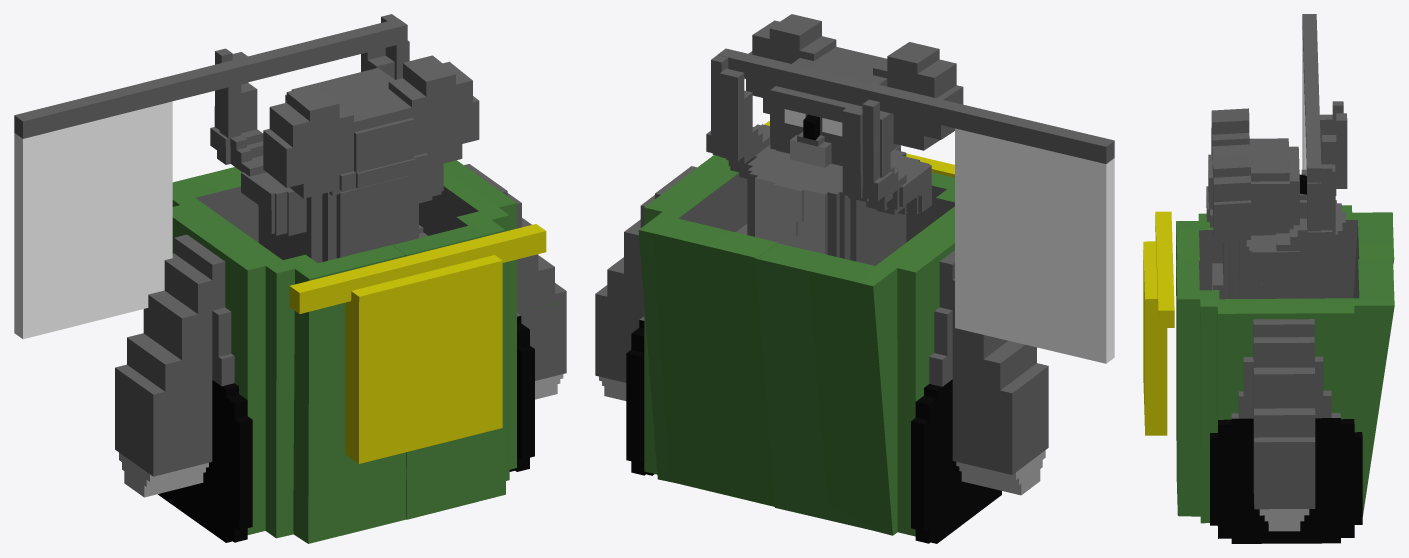
File: Koala.fbx
The picture shows the model from 3 angles, left to right: view 1: azimuth 30°, elevation 25°; view 2: azimuth 150°, elevation 25°; view 3: azimuth 270°, elevation 25°; orthographic projection. The views are drawn at different scales.
Visible parts, largest first — view 1: polySurface12, polySurface7, polySurface2, polySurface11, polySurface5, polySurface9, polySurface10; view 2: polySurface12, polySurface7, polySurface11, polySurface5, polySurface9, polySurface10; view 3: polySurface11, polySurface5, polySurface9, polySurface2, polySurface7, polySurface12, polySurface10.
Part boxes in pixels (x1,y1,x2,y2): polySurface12: [115, 167, 406, 543]; polySurface7: [14, 14, 409, 339]; polySurface2: [289, 224, 546, 463]; polySurface11: [392, 160, 566, 519]; polySurface5: [263, 55, 479, 198]; polySurface9: [241, 163, 443, 262]; polySurface10: [210, 48, 266, 176]; polySurface12: [755, 172, 1048, 543]; polySurface7: [706, 48, 1114, 363]; polySurface11: [595, 155, 777, 506]; polySurface5: [746, 14, 963, 167]; polySurface9: [728, 124, 931, 265]; polySurface10: [842, 99, 906, 204]; polySurface11: [1176, 258, 1394, 543]; polySurface5: [1206, 108, 1306, 241]; polySurface9: [1212, 200, 1345, 299]; polySurface2: [1143, 211, 1174, 435]; polySurface7: [1276, 14, 1335, 252]; polySurface12: [1176, 205, 1394, 440]; polySurface10: [1301, 101, 1347, 195].
Bounding box in the file's own units: 14.22 × 11.28 × 7.37.
